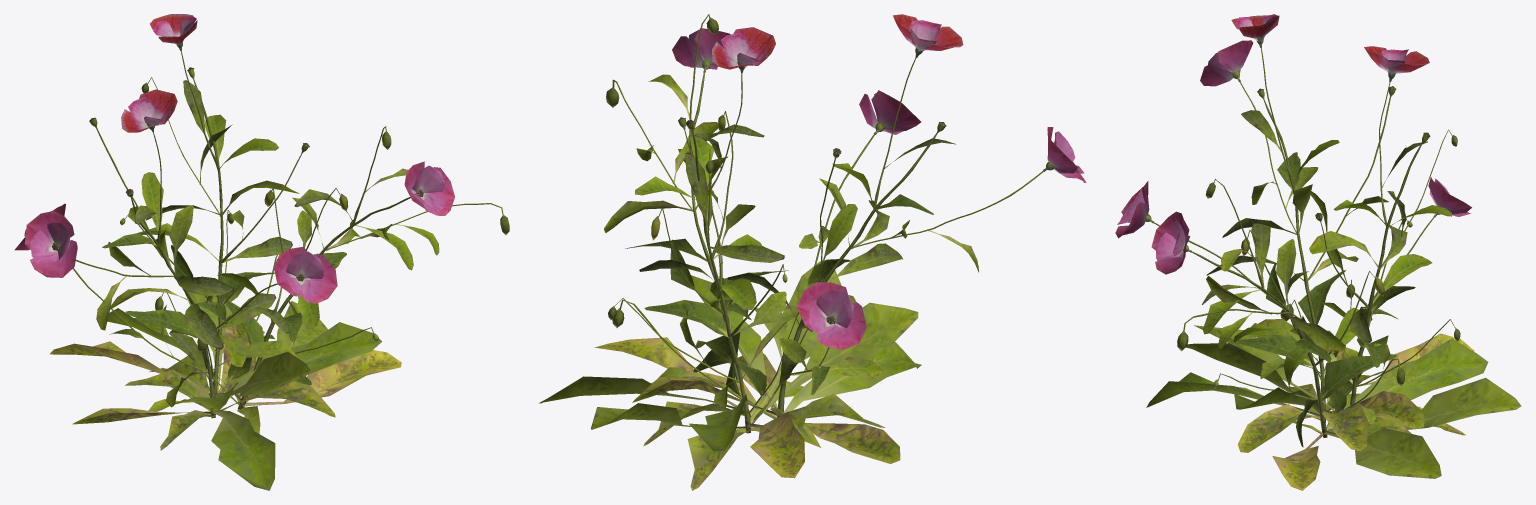
The model's file is Poppy_bush_short_red.glb.
The picture shows the model from 3 angles, left to right: view 1: azimuth 30°, elevation 25°; view 2: azimuth 150°, elevation 25°; view 3: azimuth 270°, elevation 25°; orthographic projection. The views are drawn at different scales.
Visible parts, largest first — view 1: bush jr; view 2: bush jr; view 3: bush jr.
Part boxes in pixels (box(x1,y1,x2,y2)): bush jr: box(14, 14, 509, 490); bush jr: box(539, 14, 1086, 490); bush jr: box(1115, 14, 1521, 490).
Bounding box in the file's own units: 4.09 × 3.29 × 3.16.
Materials: 1 (1 with a texture image).
